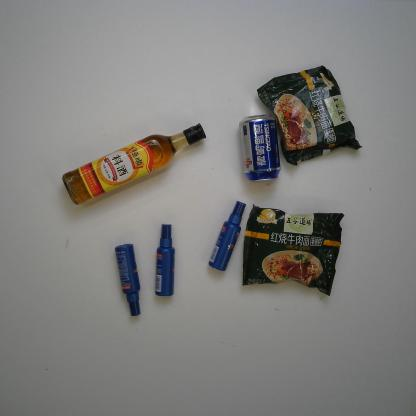Alcohol: (239, 113, 281, 182)
Instant Noodles: (256, 65, 364, 166), (242, 203, 344, 297)
Personal Hygiene: (207, 200, 246, 272), (115, 243, 141, 316), (155, 224, 175, 297)
Seasoner: (61, 123, 207, 206)
